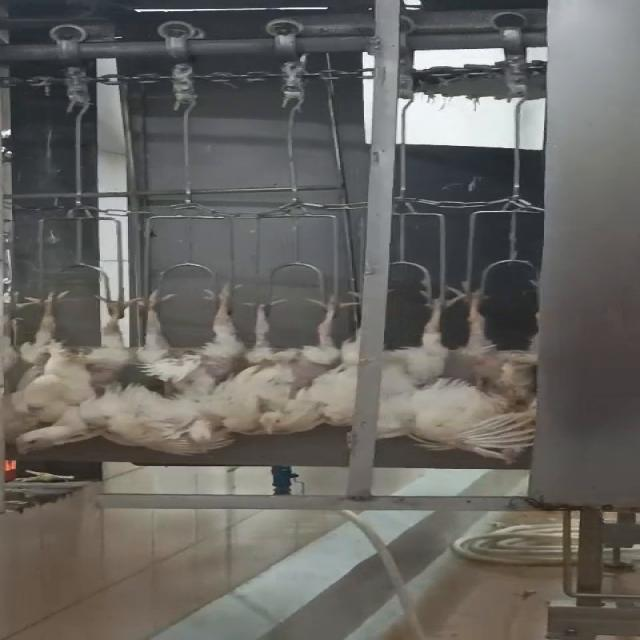chicken: (12, 289, 154, 456), (226, 289, 357, 440), (144, 282, 240, 457), (449, 284, 538, 462), (377, 288, 453, 452)
